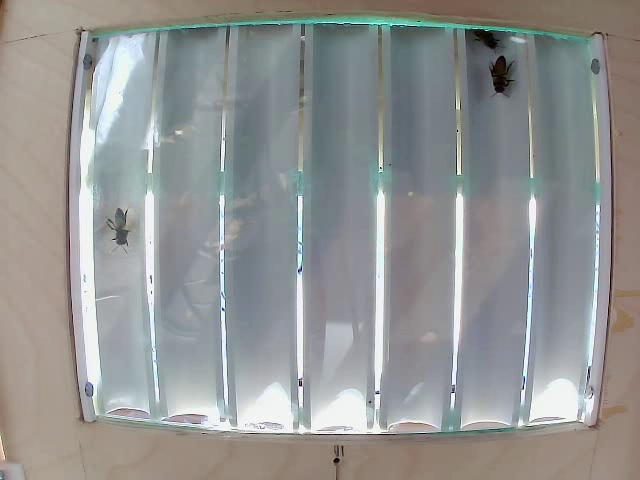bee: (101, 204, 137, 251), (483, 58, 510, 101)
